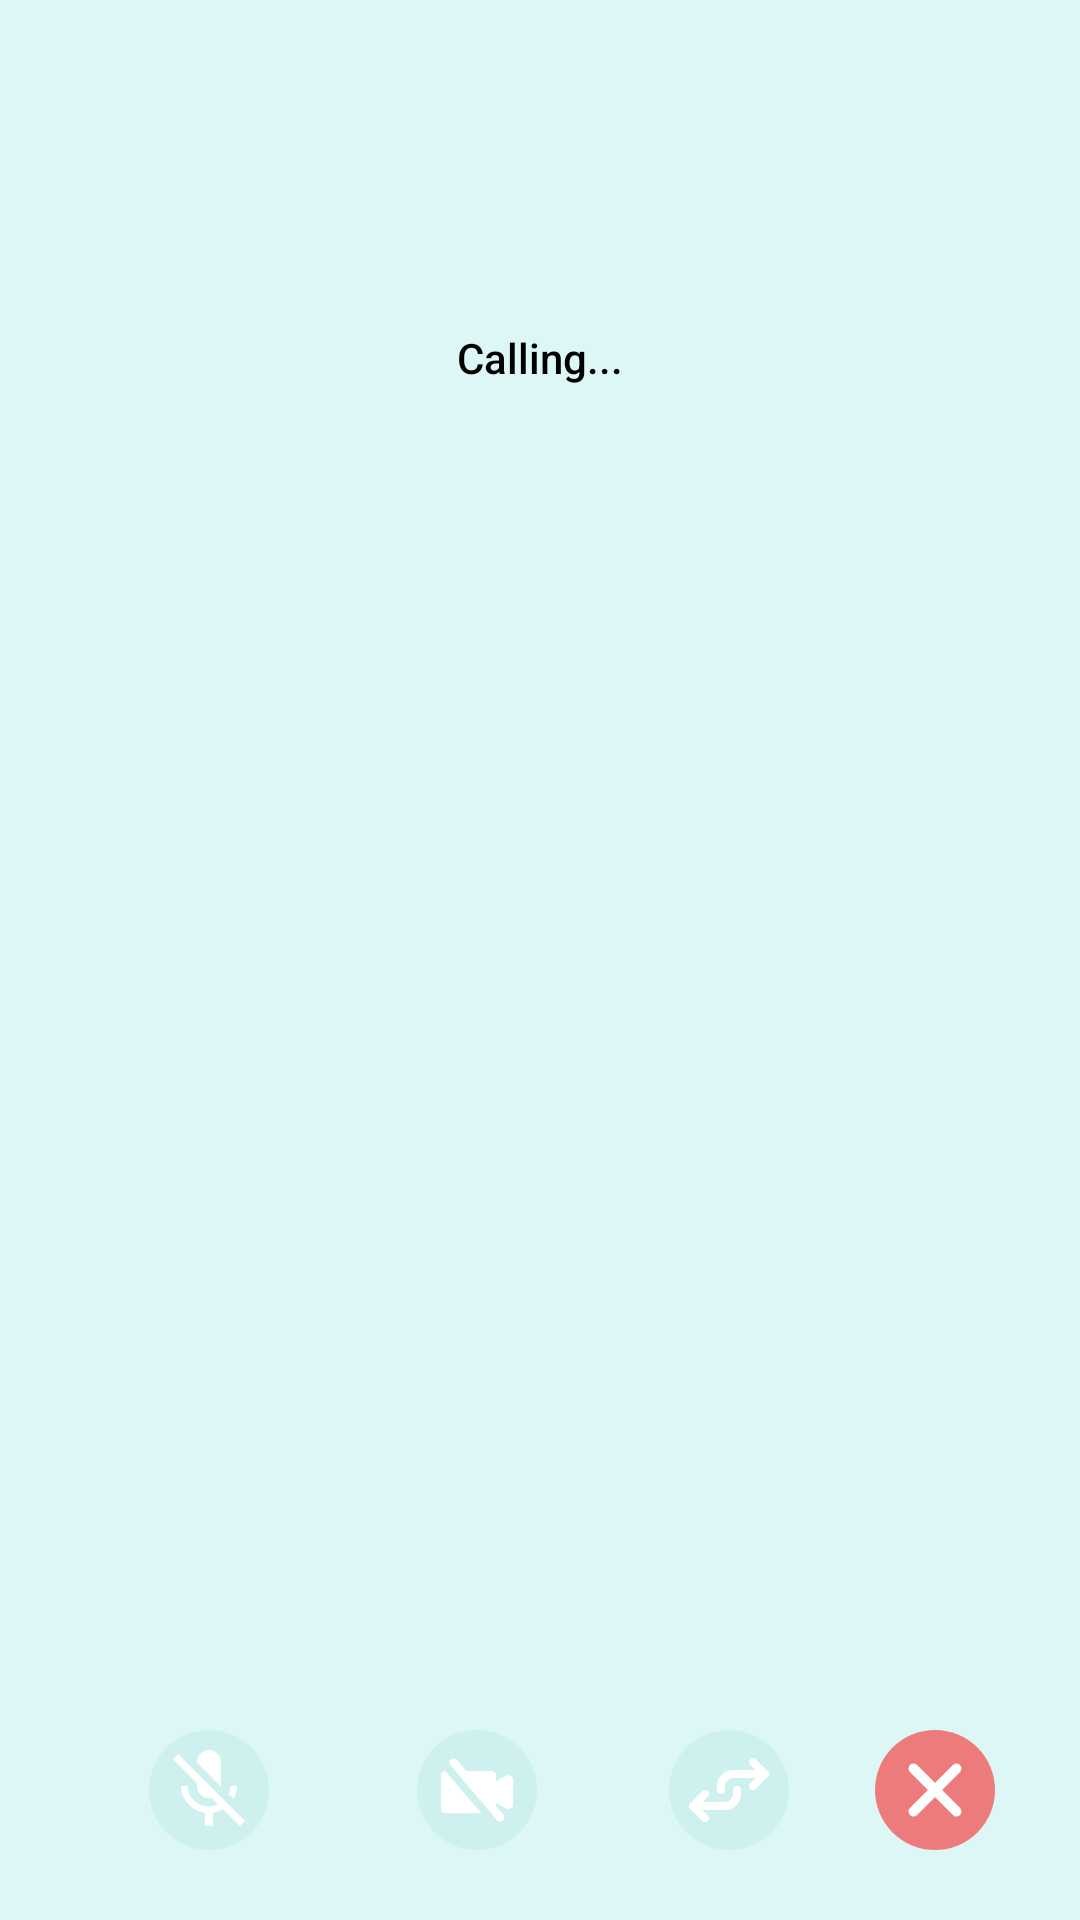

Screen size 1080×1920. Icon name, then its box in pixels as (x1, y1, x2, y2):
call mute: (149, 1730, 269, 1850)
cross: (875, 1730, 995, 1850)
no video: (441, 1759, 513, 1821)
swap: (669, 1730, 789, 1850)
